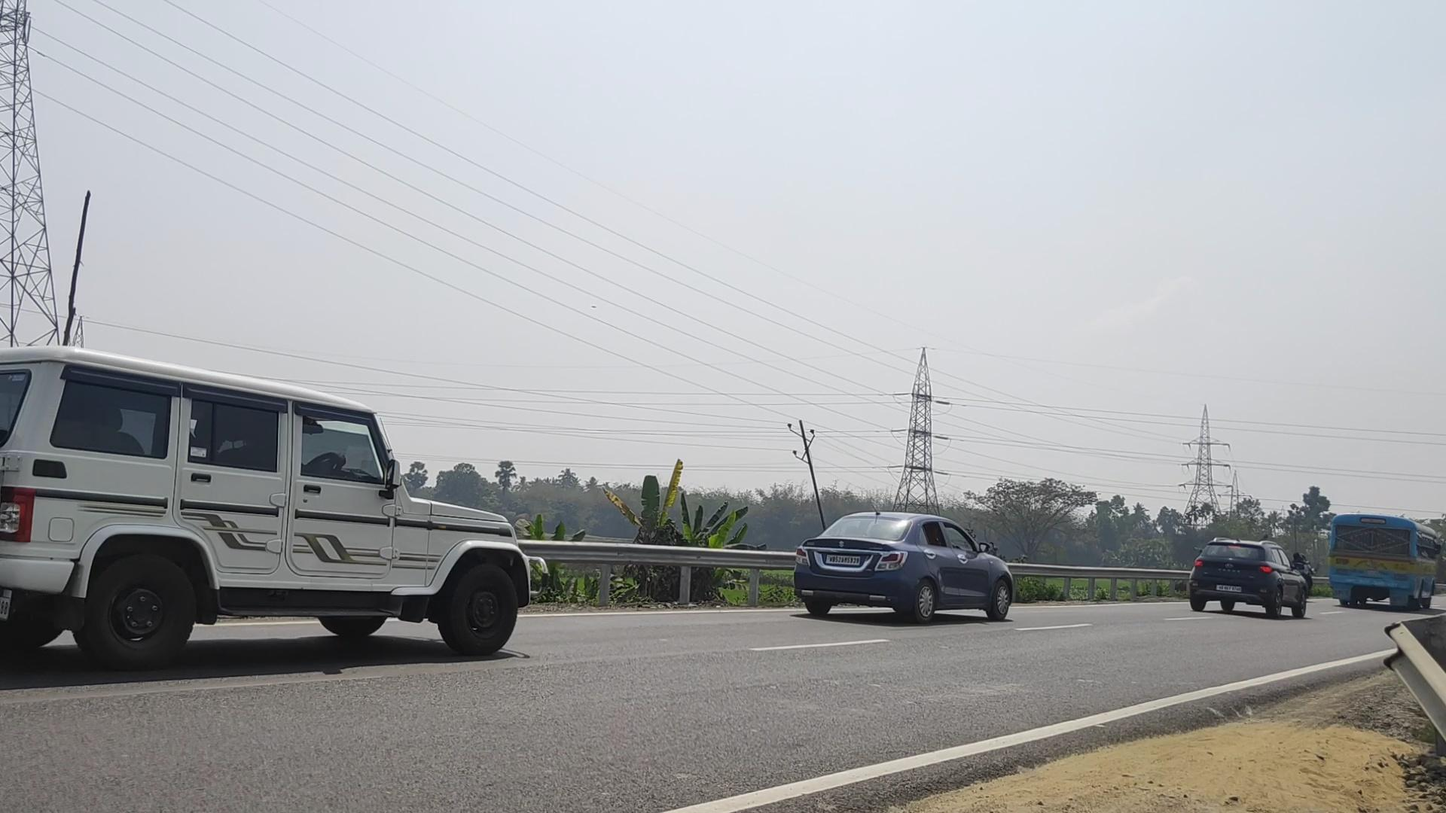Bus: (1327, 513, 1441, 611)
car: (1, 345, 549, 676), (794, 511, 1014, 625), (1188, 537, 1308, 620)
